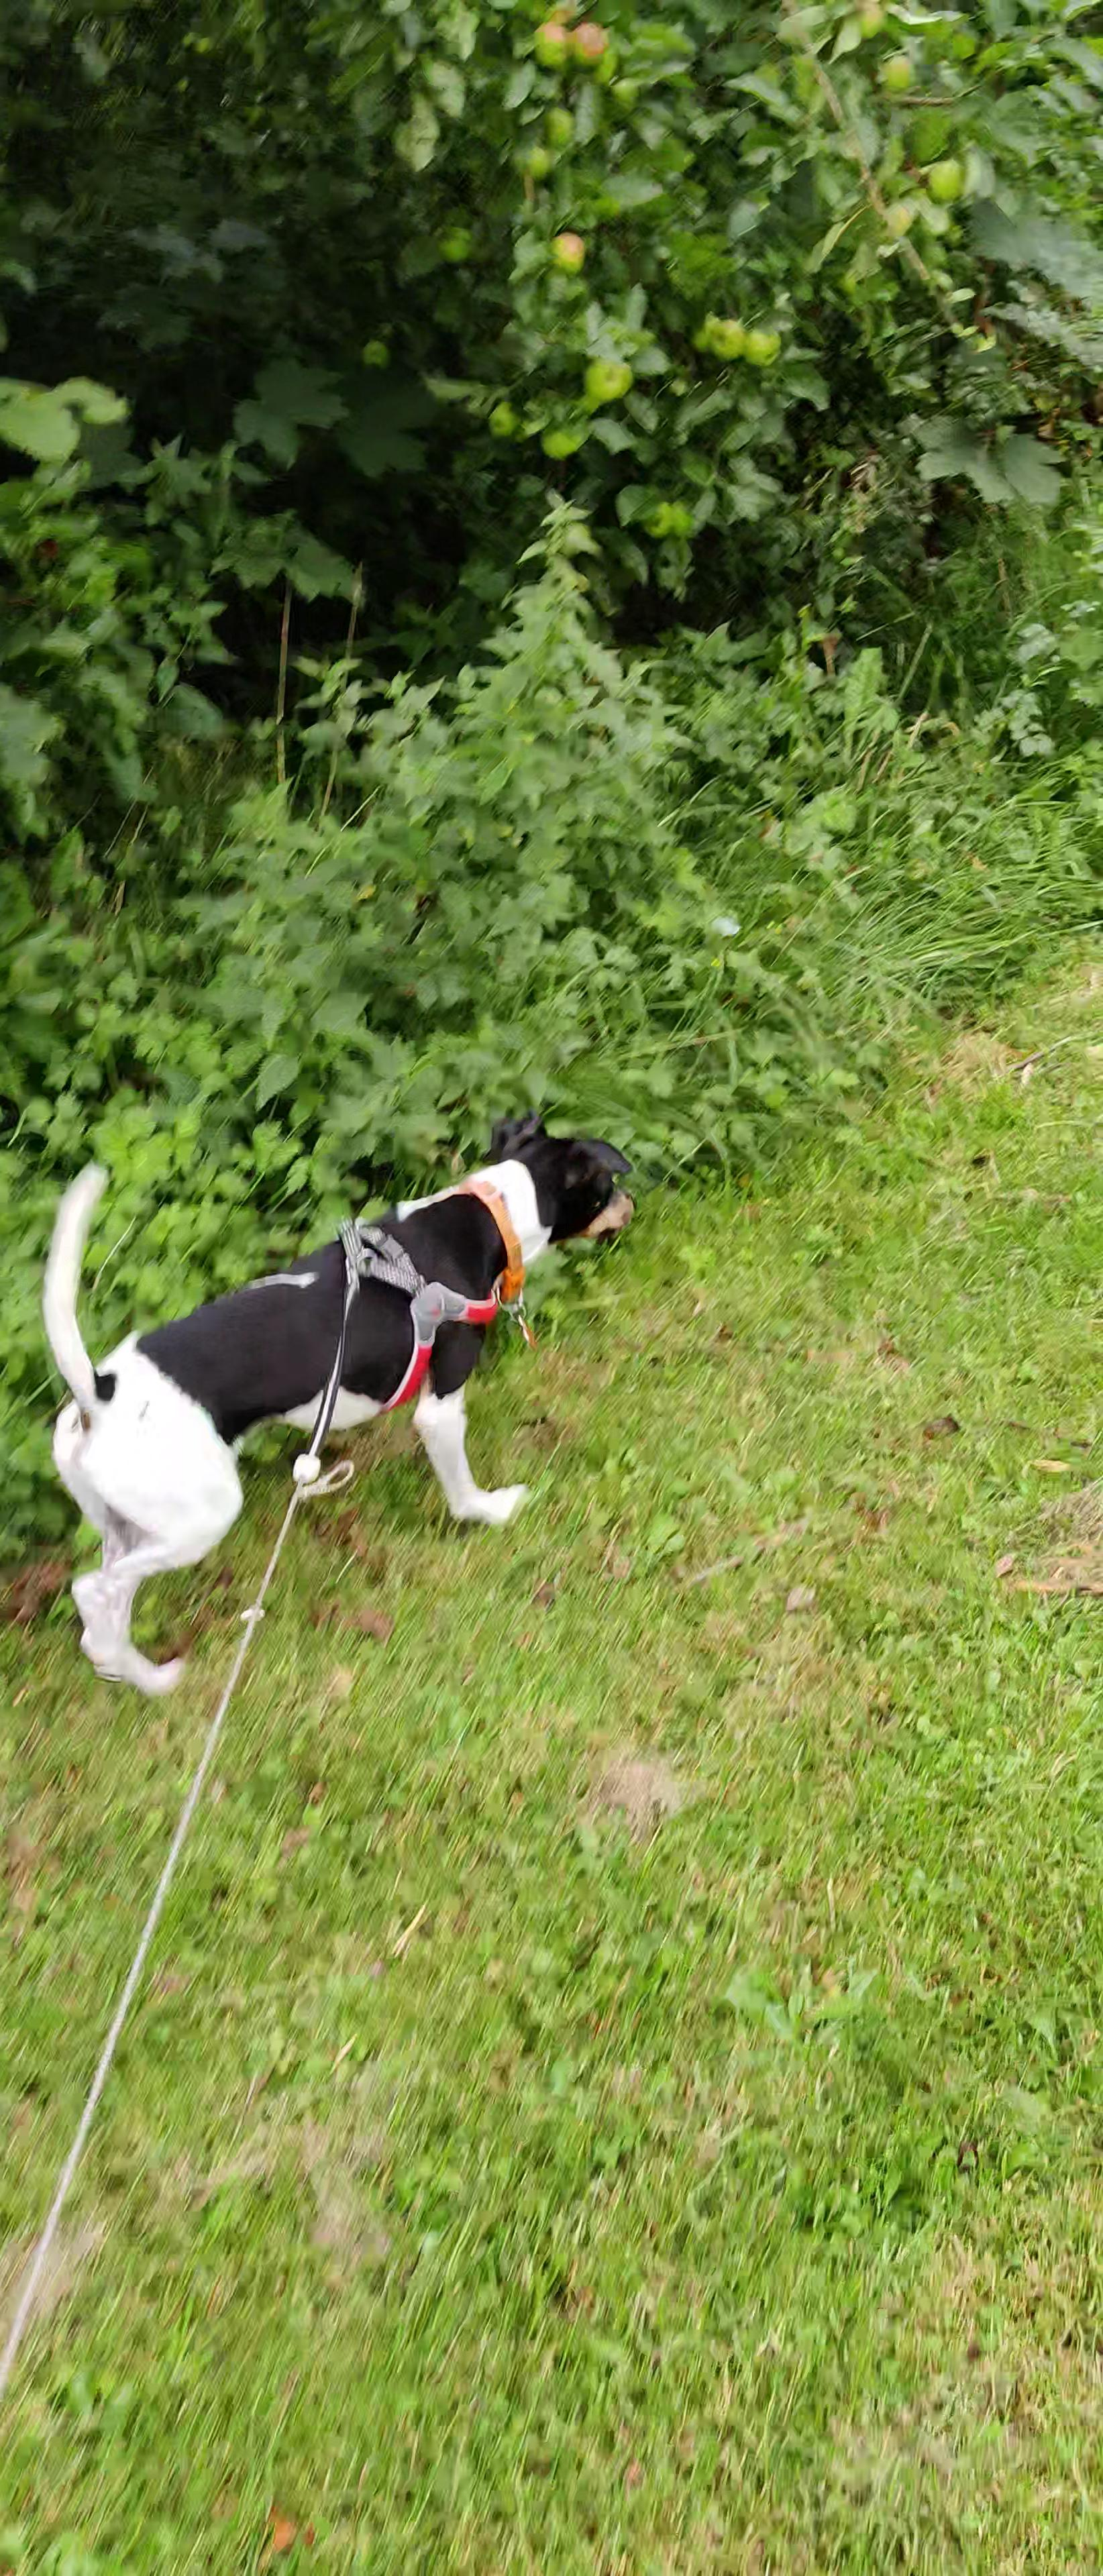Dog: (28, 1066, 654, 1704)
